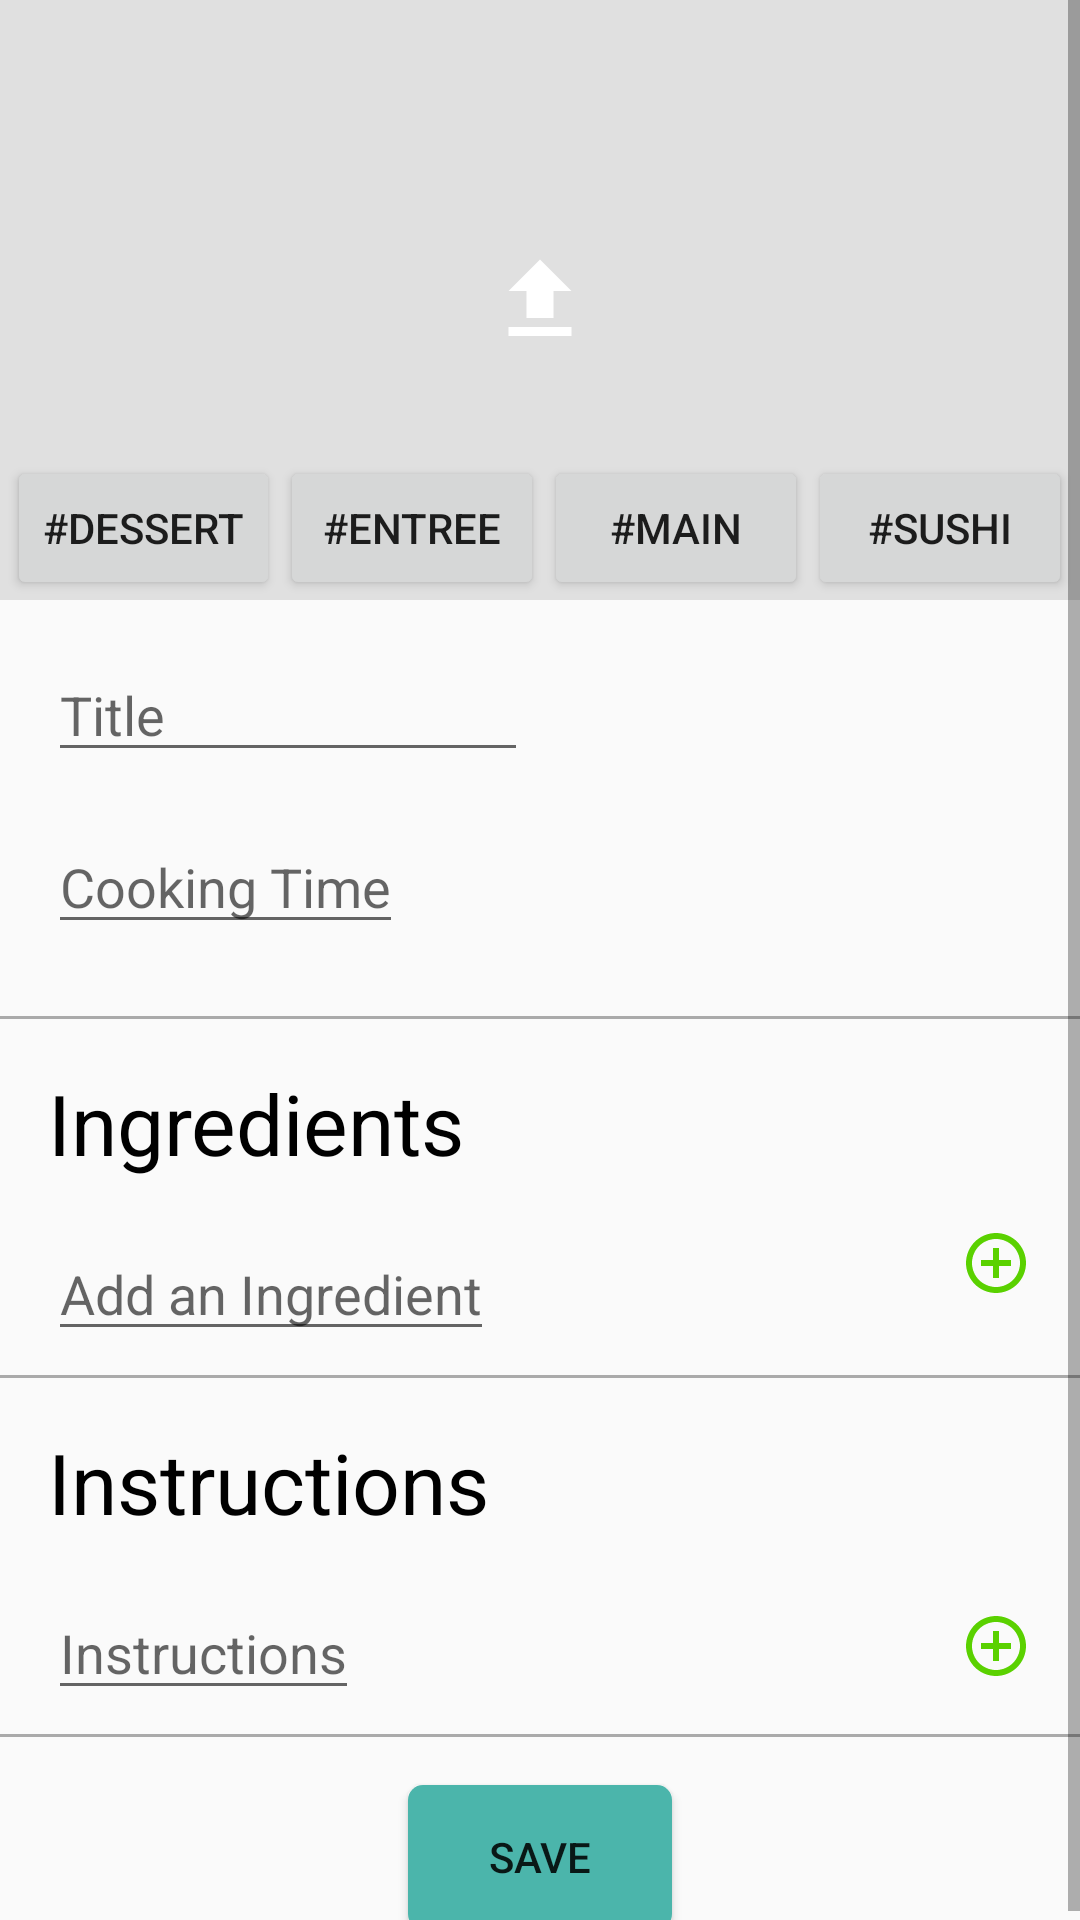

Icon bounding boxes for this 1080×1920 phone screenshot, format (x1, y1, x2, y2):
add: (966, 1233, 1026, 1293), (966, 1616, 1026, 1676)
